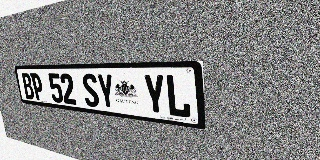2: (59, 73, 77, 105)
5: (48, 73, 64, 103)
B: (21, 73, 35, 100)
L: (165, 74, 191, 119)
P: (30, 73, 45, 101)
S: (81, 74, 100, 108)
Y: (142, 74, 167, 116), (96, 74, 116, 110)
